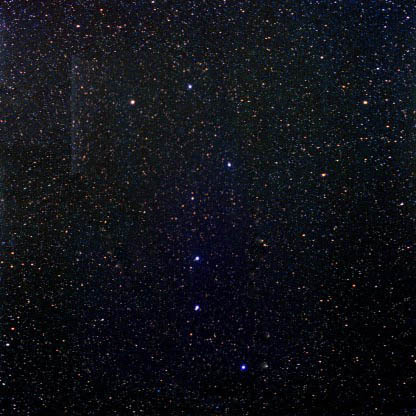Ursa Major: (118, 87, 144, 115), (215, 152, 238, 181), (183, 296, 213, 318), (180, 184, 204, 211), (178, 76, 199, 98), (231, 356, 253, 377), (186, 249, 206, 266)
